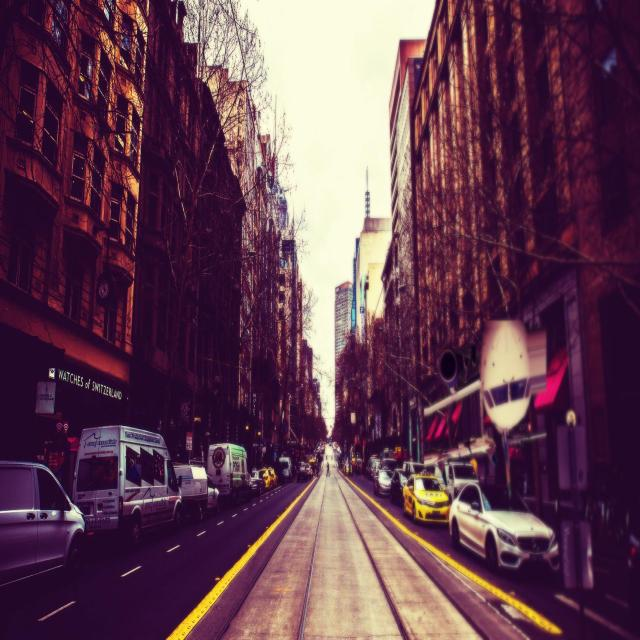airplane: (424, 319, 572, 463)
